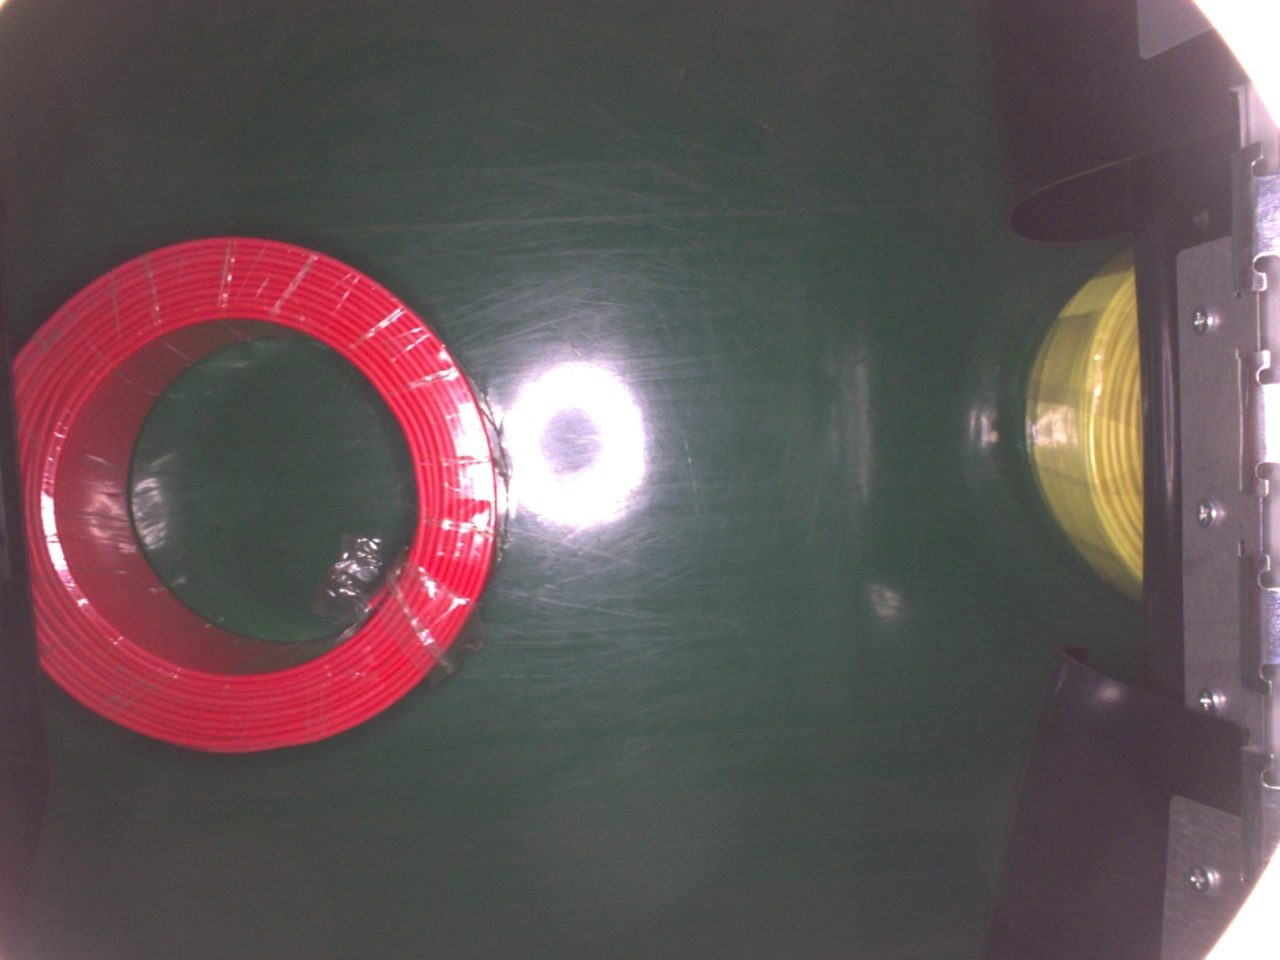red: (7, 236, 507, 749)
yellow: (1023, 240, 1144, 604)
